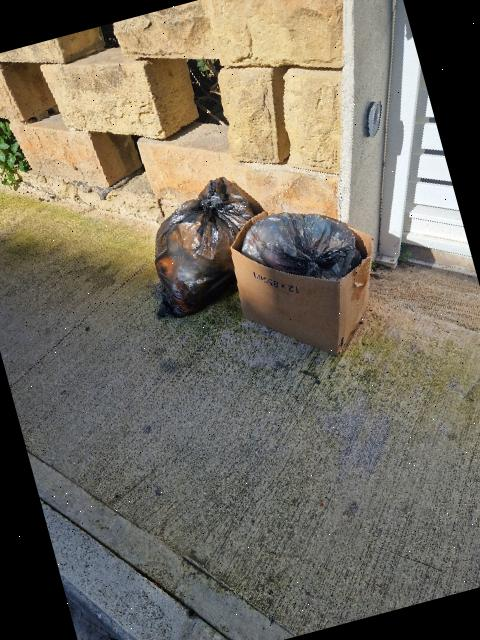Mixed -Black-: (154, 177, 262, 318)
Other: (230, 225, 374, 356)
Recyclable -Grey-: (240, 213, 362, 280)
